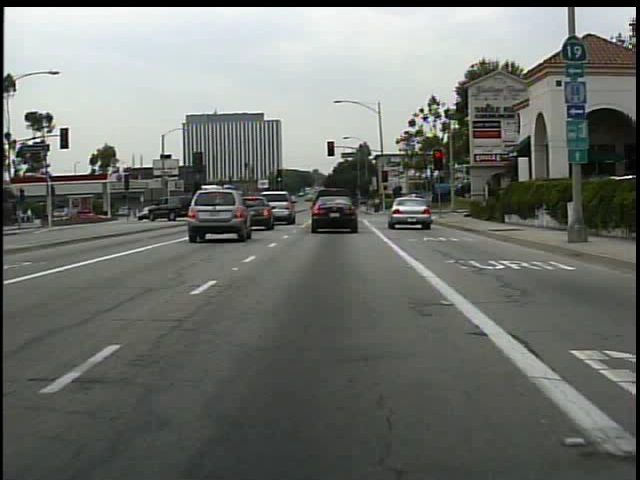person: (371, 194, 383, 215)
